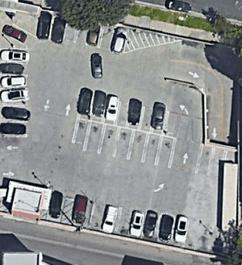parkingspot: (70, 193, 215, 255), (76, 87, 182, 141), (70, 117, 178, 170), (35, 9, 129, 55), (0, 47, 29, 138), (194, 143, 229, 179), (2, 24, 35, 49), (45, 190, 67, 224)
